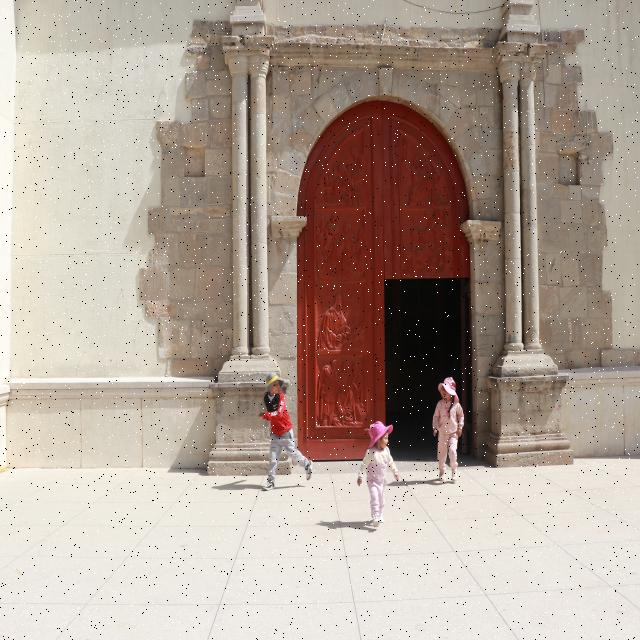PORTADA CENTRAL: (298, 84, 490, 472)
colonial-architecture-: (91, 0, 604, 487)
